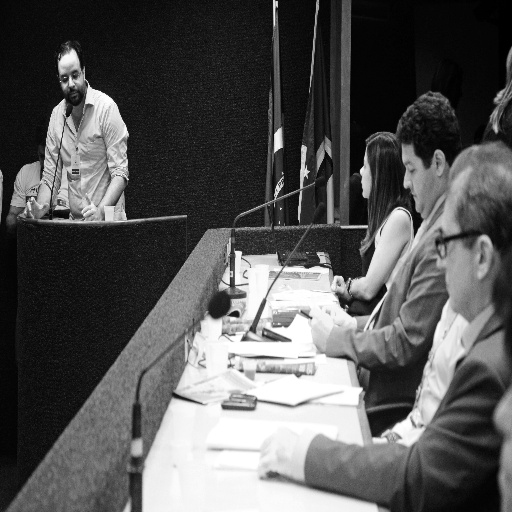hand: (256, 426, 301, 480), (310, 309, 336, 355), (318, 302, 355, 327), (79, 192, 103, 222), (330, 272, 350, 299)
